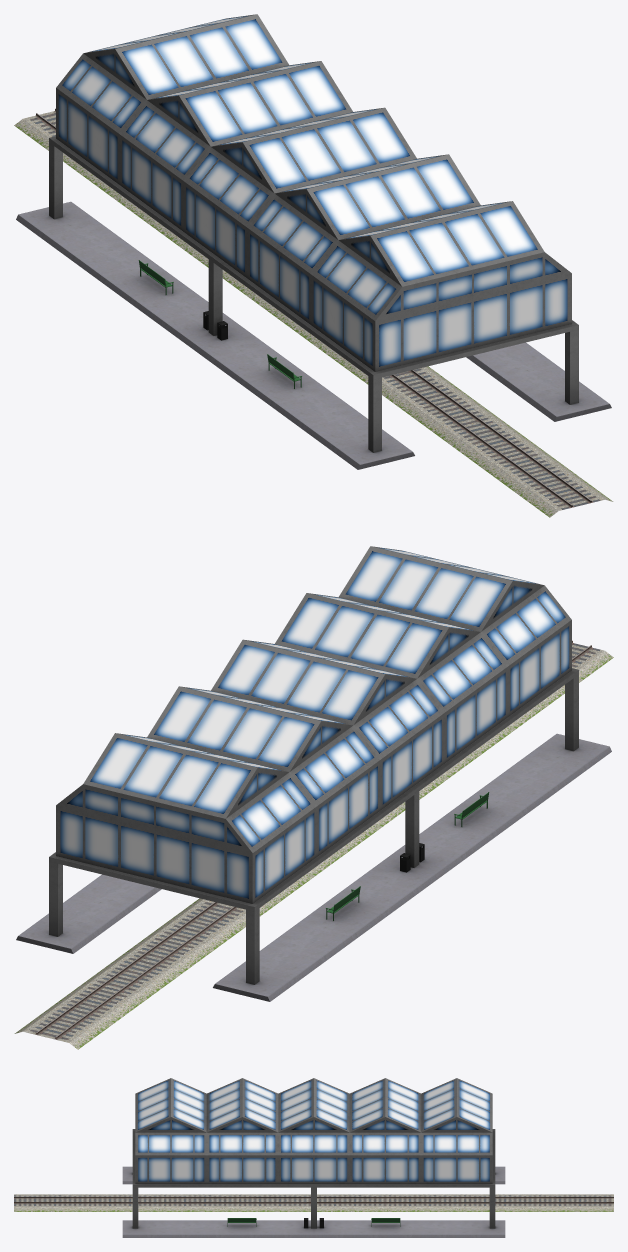
File: Tr_Station2.fbx
3 views of the same model, one above another, from view 1: azimuth 30°, elevation 25°; view 2: azimuth 150°, elevation 25°; view 3: azimuth 270°, elevation 25° (orthographic). The views are drawn at different scales.
Parts seen in each view (by area): view 1: U3DMesh; view 2: U3DMesh; view 3: U3DMesh.
Part boxes in pixels (x1,y1,x2,y2): U3DMesh: (14,14,613,517); U3DMesh: (14,546,613,1049); U3DMesh: (14,1078,613,1237).
Size of the model in its own units: 17.53 by 12.44 by 64.
